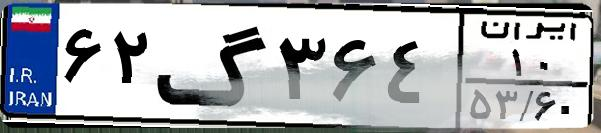0: (560, 70, 590, 125), (537, 27, 568, 80)
1: (508, 27, 537, 80)
2: (110, 28, 156, 98)
3: (270, 28, 330, 110), (495, 70, 520, 125)
4: (385, 28, 445, 110)
5: (470, 70, 495, 125)
6: (330, 28, 385, 110), (57, 26, 110, 100), (535, 70, 560, 125)
گ: (156, 12, 270, 120)
